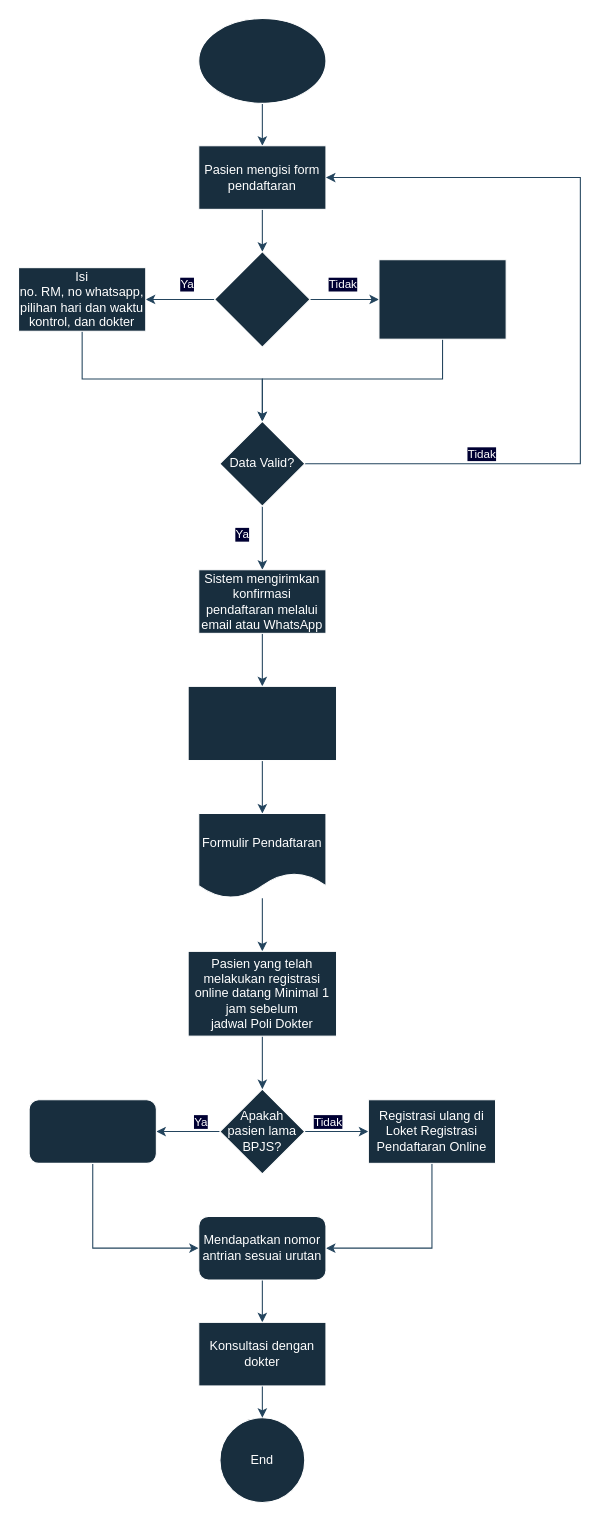
Image size: 607x1521. Some labels were removed from this diagram. Here are the shapes that lost their labels. From the top down, the centre of each, then its label:
point 262,60: Start
point 262,299: Pasien Lama?
point 442,299: Isi data lengkap pasien, no whatsapp, pilihan hari dan waktu kontrol, dan dokter
point 262,723: Menampilkan halaman konfirmasi pendaftaran online
point 92,1131: Registrasi di mesin APM
